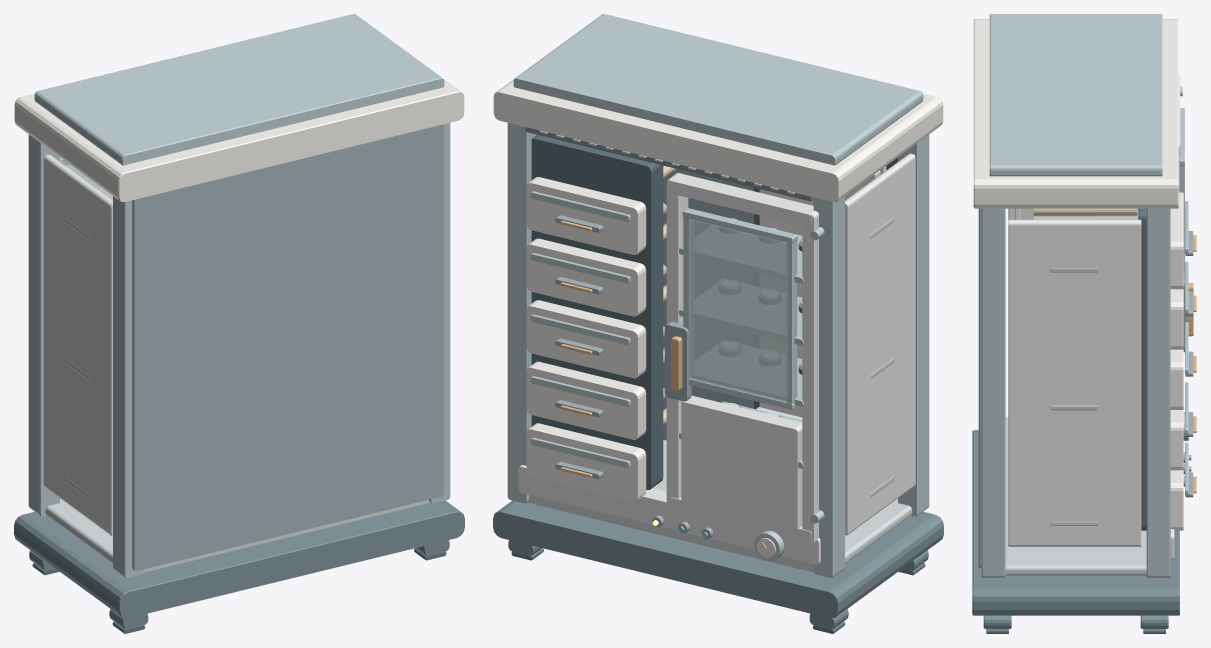
File: sample_storage_cabinet.glb
3 views of the same model, side by side, from view 1: azimuth 30°, elevation 25°; view 2: azimuth 150°, elevation 25°; view 3: azimuth 270°, elevation 25° (orthographic). The views are drawn at different scales.
Visible parts, largest first — view 1: Fixed__steel, Fixed__aluminium, Fixed__shell, Fixed__graphite, Fixed__ivory, Fixed__silver; view 2: Fixed__aluminium, Fixed__shell, Cold_Archive_Door__shell, Fixed__graphite, Fixed__ivory, Cold_Archive_Door__glass, Fixed__recess, Cold_Archive_Door__aluminium, Core_Archive_Drawer_2__ivory, Core_Archive_Drawer_5__ivory, Core_Archive_Drawer_3__ivory, Core_Archive_Drawer_1__ivory (+11 smaller); view 3: Fixed__aluminium, Fixed__shell, Fixed__ivory, Fixed__graphite, Fixed__silver, Fixed__recess, Fixed__steel, Core_Archive_Drawer_5__ivory, Core_Archive_Drawer_4__ivory, Core_Archive_Drawer_2__ivory, Core_Archive_Drawer_3__ivory, Core_Archive_Drawer_1__ivory (+3 smaller).
Part boxes in pixels (box(x1,y1,x2,y2)): Fixed__steel: box(132, 124, 443, 570); Fixed__aluminium: box(28, 14, 450, 577); Fixed__shell: box(43, 154, 112, 536); Fixed__graphite: box(14, 500, 464, 629); Fixed__ivory: box(14, 79, 464, 201); Fixed__silver: box(45, 218, 429, 572); Fixed__aluminium: box(507, 14, 929, 577); Fixed__shell: box(518, 153, 915, 564); Cold_Archive_Door__shell: box(666, 173, 818, 543); Fixed__graphite: box(493, 127, 943, 629); Fixed__ivory: box(493, 79, 943, 557); Cold_Archive_Door__glass: box(687, 219, 787, 401); Fixed__recess: box(531, 135, 897, 489); Cold_Archive_Door__aluminium: box(682, 208, 824, 523); Core_Archive_Drawer_2__ivory: box(526, 361, 646, 439); Core_Archive_Drawer_5__ivory: box(526, 177, 646, 254); Core_Archive_Drawer_3__ivory: box(526, 300, 646, 378); Core_Archive_Drawer_1__ivory: box(526, 423, 646, 501); Fixed__aluminium: box(981, 14, 1188, 577); Fixed__shell: box(1008, 208, 1174, 560); Fixed__ivory: box(973, 19, 1178, 219); Fixed__graphite: box(972, 208, 1179, 628); Fixed__silver: box(1005, 268, 1146, 575); Fixed__recess: box(1138, 208, 1146, 530); Fixed__steel: box(978, 208, 1184, 568); Core_Archive_Drawer_5__ivory: box(1170, 192, 1183, 289); Core_Archive_Drawer_4__ivory: box(1170, 289, 1183, 349); Core_Archive_Drawer_2__ivory: box(1170, 409, 1183, 470); Core_Archive_Drawer_3__ivory: box(1170, 349, 1183, 409); Core_Archive_Drawer_1__ivory: box(1170, 470, 1183, 530).
Bounding box in the file's own units: 1.47 × 1.94 × 0.8425.
